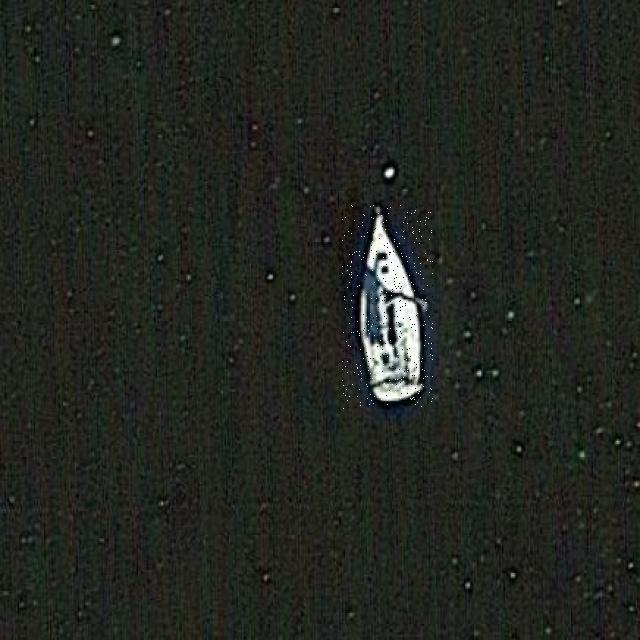boat: (342, 204, 433, 409)
